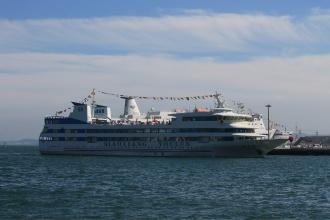youlun: (38, 84, 299, 154)
